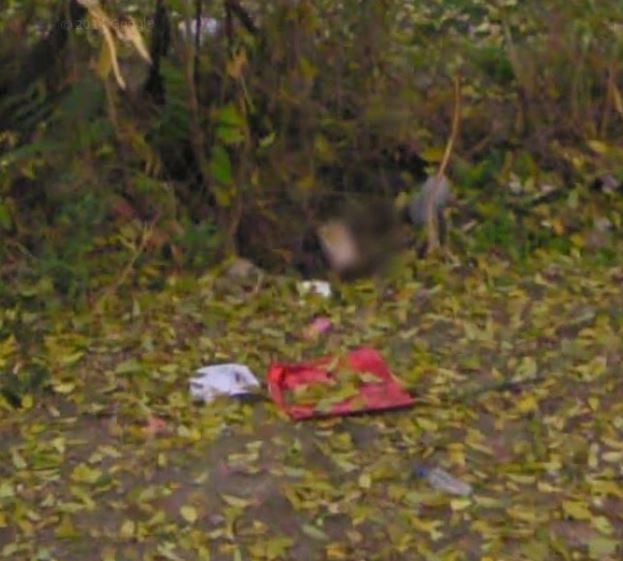trash: (264, 343, 421, 422), (178, 348, 262, 409), (403, 451, 482, 497)
